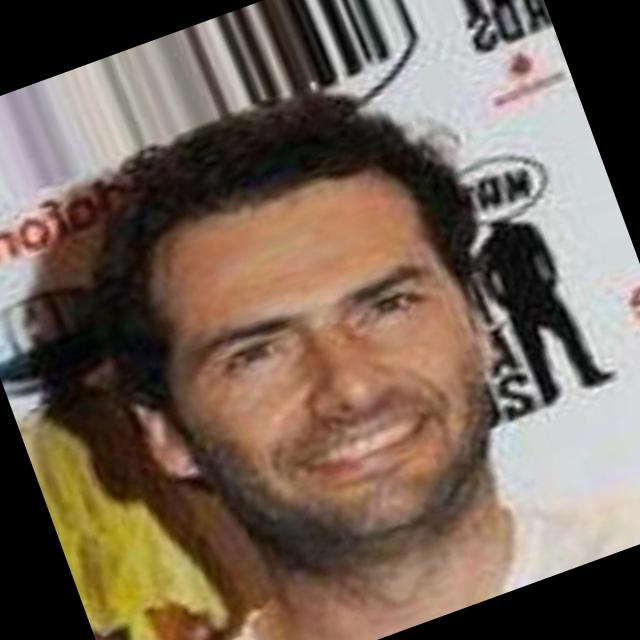bareface: (115, 139, 530, 586)
